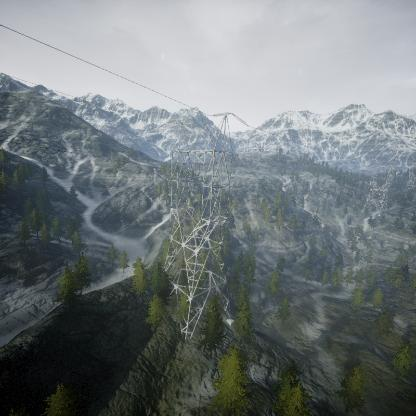tower: (160, 110, 252, 343), (360, 157, 401, 223)
